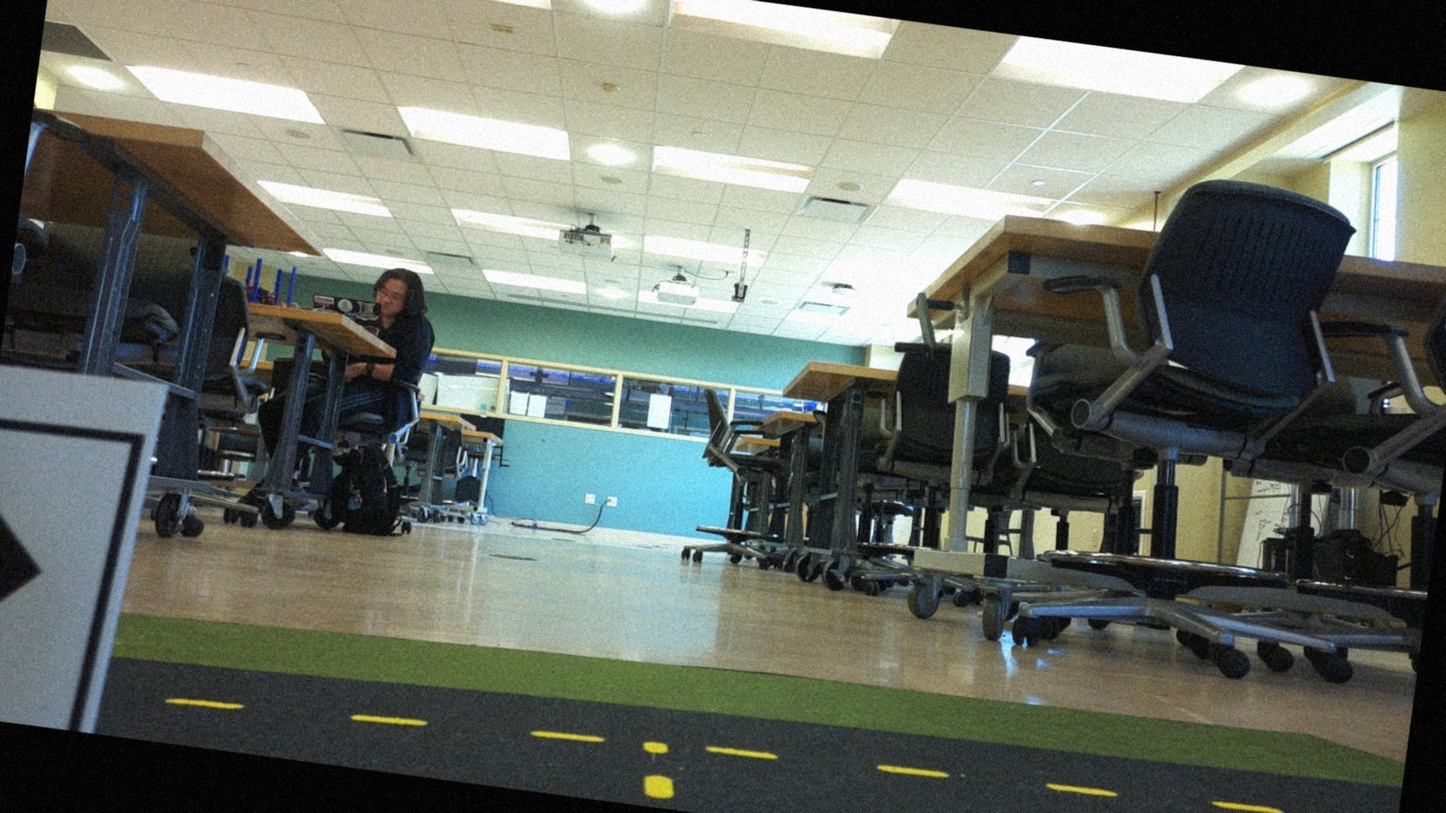yellowline: (171, 647, 1399, 812)
